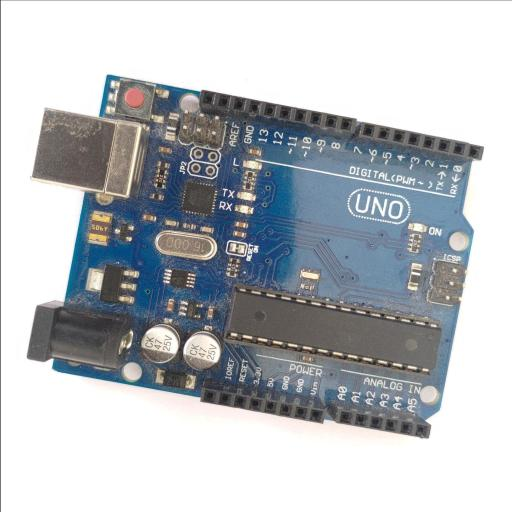Arduino Uno R3: (26, 73, 485, 440)
